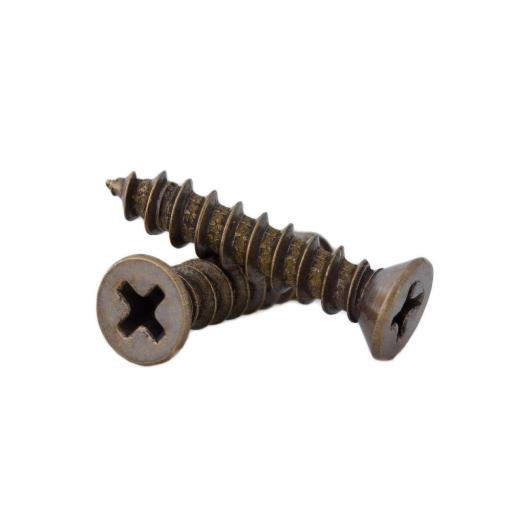Phillips: (98, 257, 188, 366)
